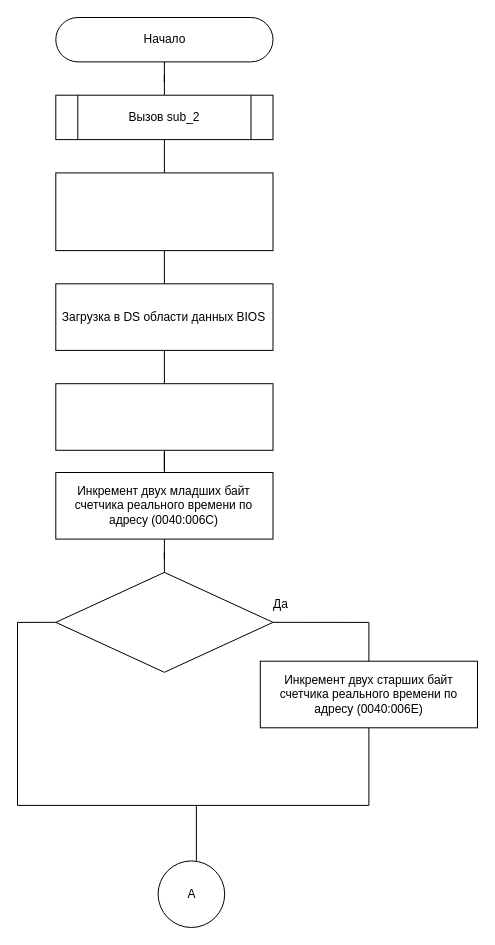
This 495x945 diagram has some shape labels left out. The shapes that lost their labels are listed below. From the top down, each one's centre as x and y in pixels, then its label:
At (x=164, y=211): "Сохранение аппаратного контекста (регистры ES, DS, AX, DX)".
At (x=164, y=416): "Загрузка таблицы векторов прерываний в ES".
At (x=164, y=621): "Младшие байты счетчика реального времени == 0?".
